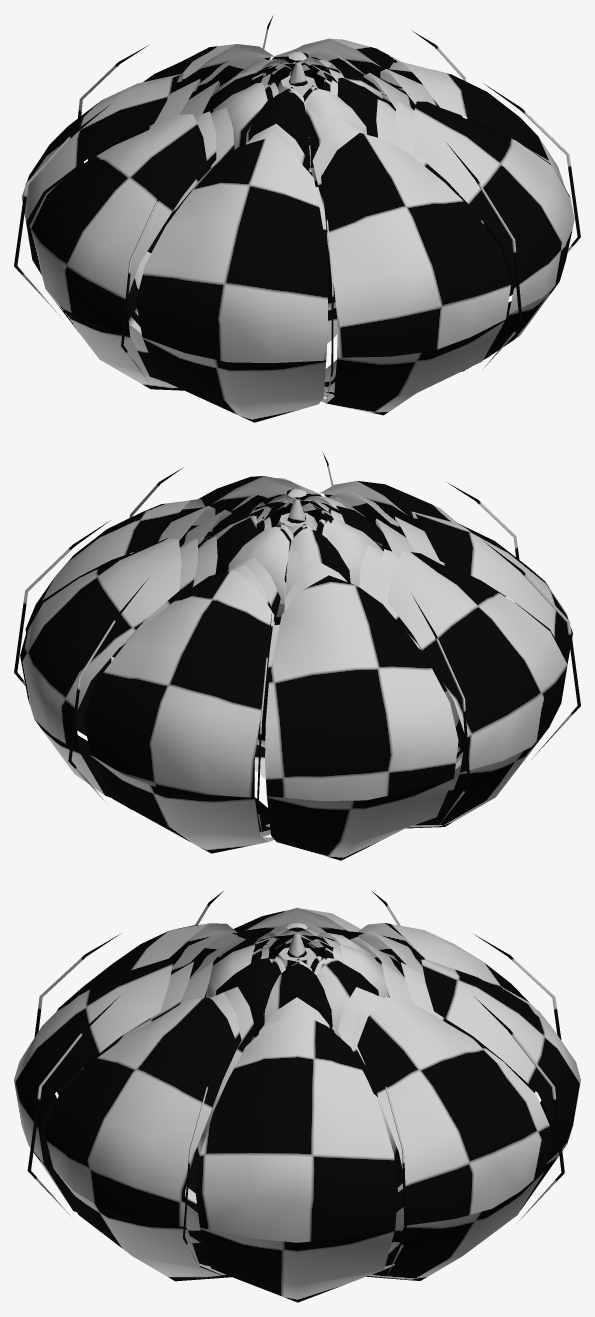
File: kucurbium_boss.obj
3 views of the same model, one above another, from view 1: azimuth 30°, elevation 25°; view 2: azimuth 150°, elevation 25°; view 3: azimuth 270°, elevation 25° (orthographic).
Parts seen in each view (by area): view 1: kucurbium-boss-outer, kucurbium-boss-inner; view 2: kucurbium-boss-outer, kucurbium-boss-inner; view 3: kucurbium-boss-outer, kucurbium-boss-inner.
Part boxes in pixels (<box>): kucurbium-boss-outer: <box>14,15,580,422</box>; kucurbium-boss-inner: <box>209,51,384,310</box>; kucurbium-boss-outer: <box>14,453,580,860</box>; kucurbium-boss-inner: <box>210,488,384,747</box>; kucurbium-boss-outer: <box>14,891,580,1302</box>; kucurbium-boss-inner: <box>196,922,398,1156</box>.
Bounding box in the file's own units: 139 × 88.82 × 139.
Materials: 2 (2 with a texture image).
